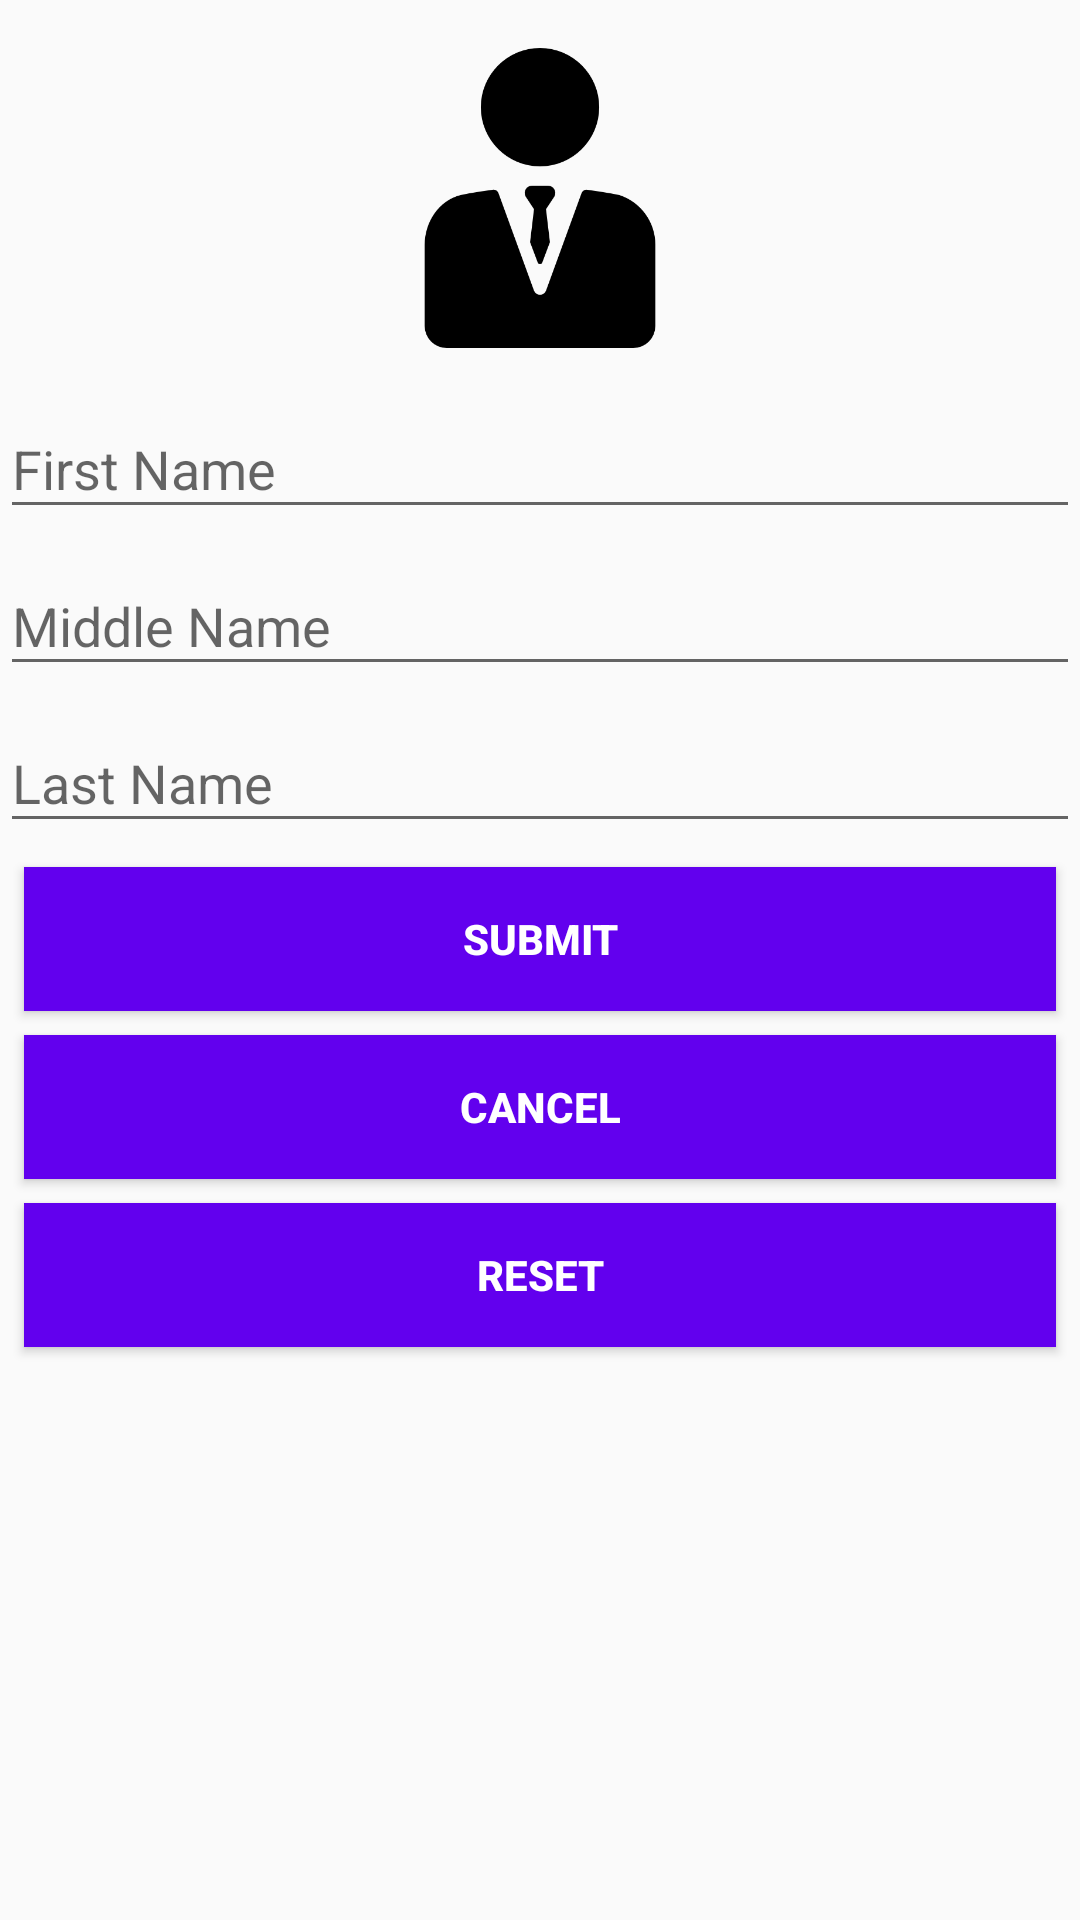

Locate icon controls on the screen. Image size 1080 × 1920, boxes as box=[x1, y1, x2, y2].
manager: box=[424, 48, 656, 348]
